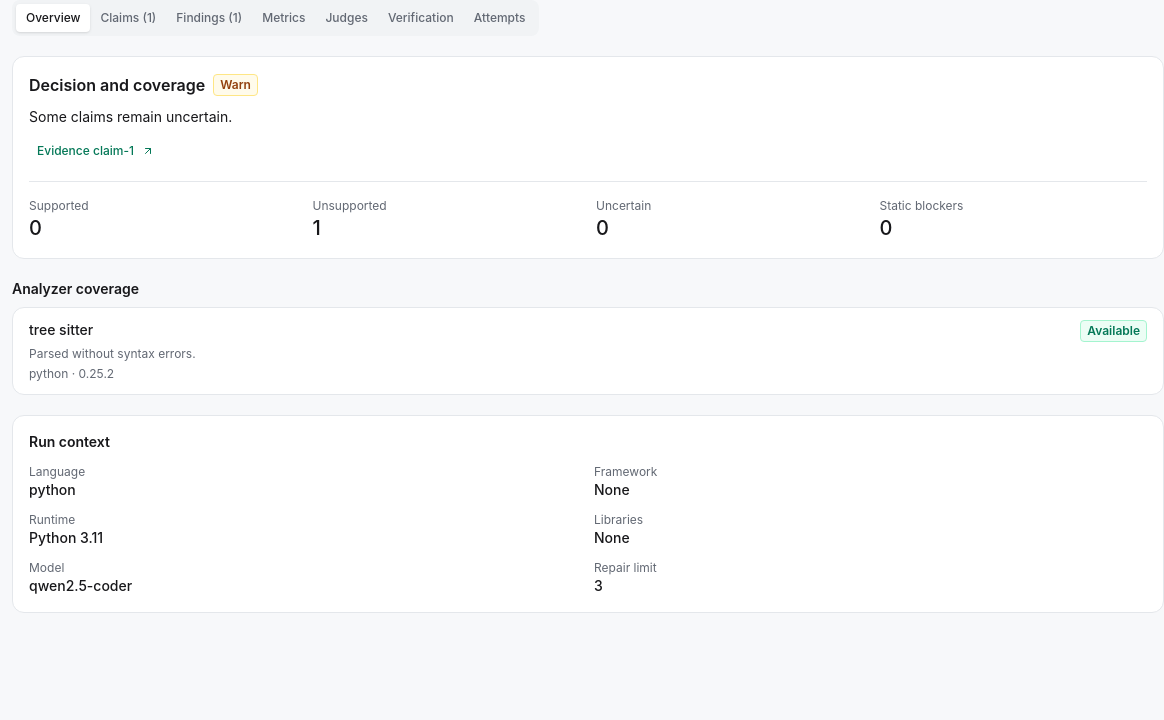
it: workspace interactions › shows unavailable measurements and provider failures
This screenshot has width=1164, height=720.
Click the tab "Metrics".
click(284, 18)  # box [252,4,315,32]
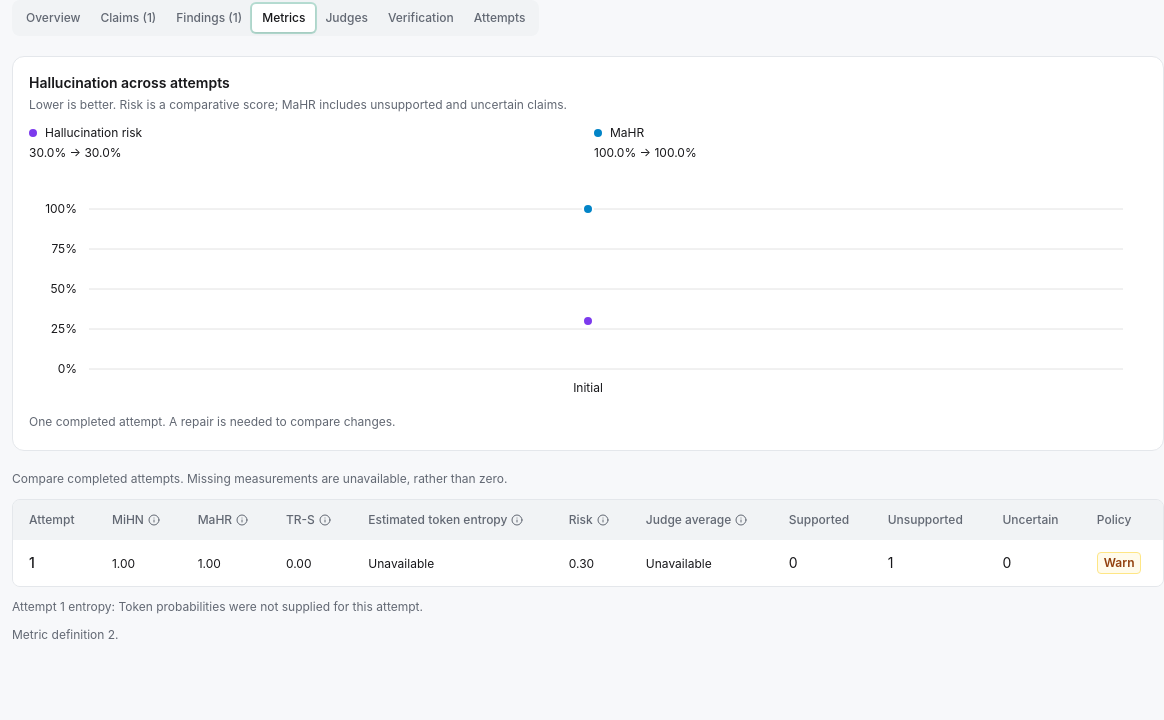
Expected: the text "Unavailable" is shown 2 times, [368,556,434,571]; [646,556,712,571]
Click the tab "Judges".
click(347, 18)  # box [315,4,378,32]
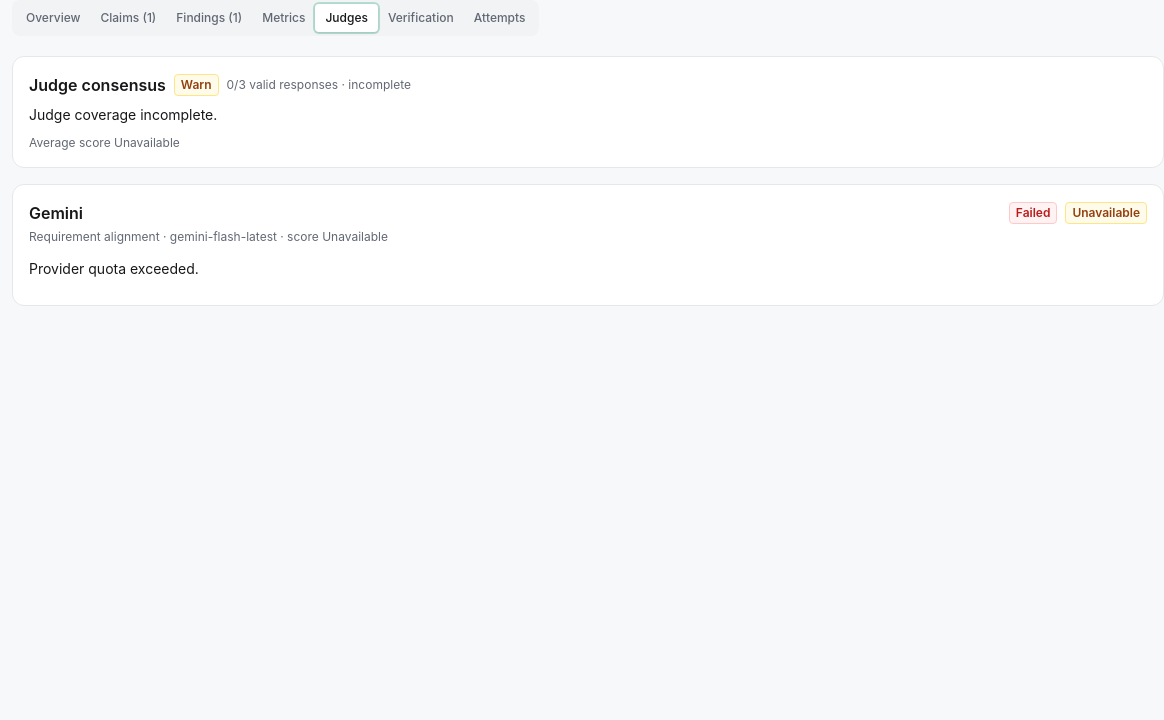
Expected: the text "Provider quota exceeded." is shown, [29,260,199,277]
Expected: the text "0/3 valid responses · incomplete" is shown, [226,77,411,93]
